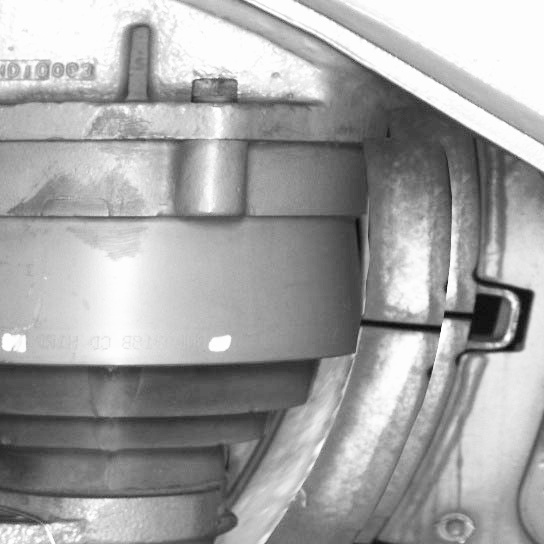ClosedKnifeSwitch: (252, 142, 474, 541)
